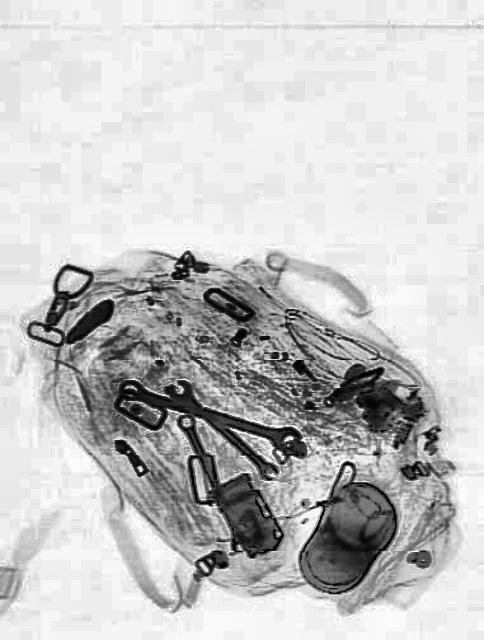Wrench: (116, 372, 300, 456), (162, 368, 280, 489), (174, 408, 250, 558)
